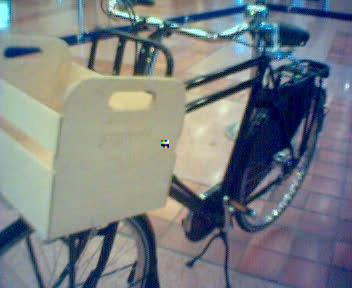car: (1, 1, 330, 288)
